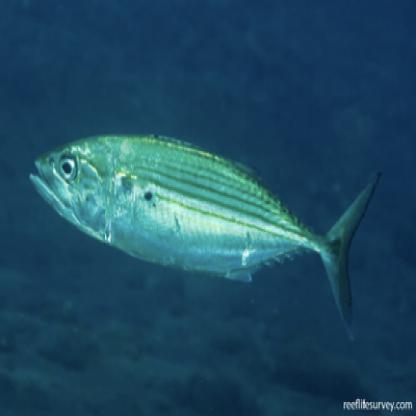Scombridae -Tunas-: (26, 124, 388, 353)
